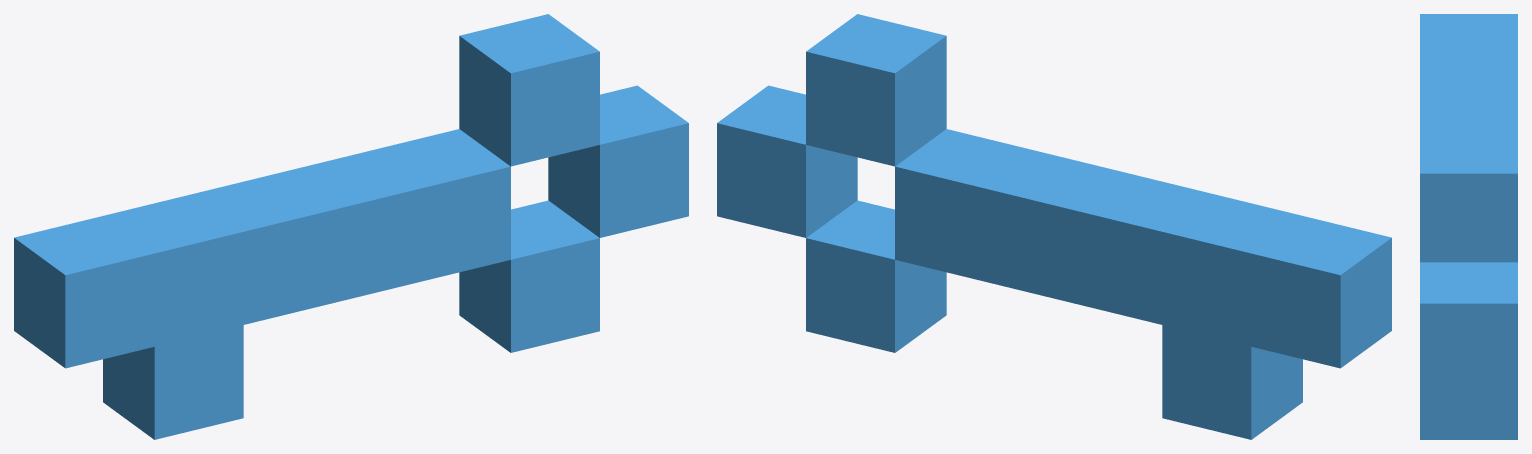
The model's file is Key-Blue.vox.obj.
The picture shows the model from 3 angles, left to right: view 1: azimuth 30°, elevation 25°; view 2: azimuth 150°, elevation 25°; view 3: azimuth 270°, elevation 25°; orthographic projection. The views are drawn at different scales.
Size of the model in its own units: 0.7 by 0.3 by 0.1.
1 material, 1 textured.
